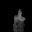person: (12, 9, 26, 30)
